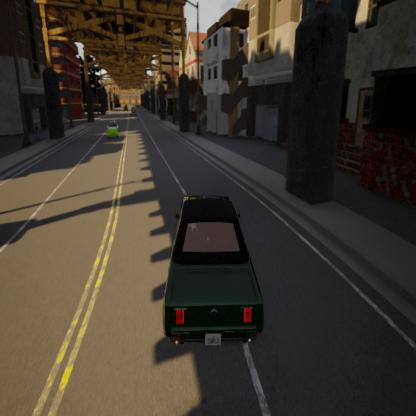Cars: (156, 183, 272, 358), (103, 117, 124, 145), (129, 102, 139, 116)
Pedestrian: (32, 121, 42, 144)
